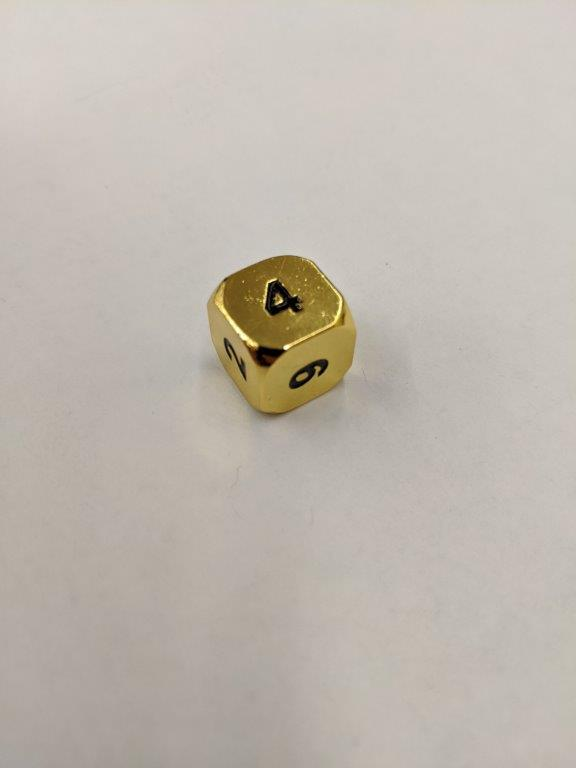d6-4: (207, 252, 361, 419)
